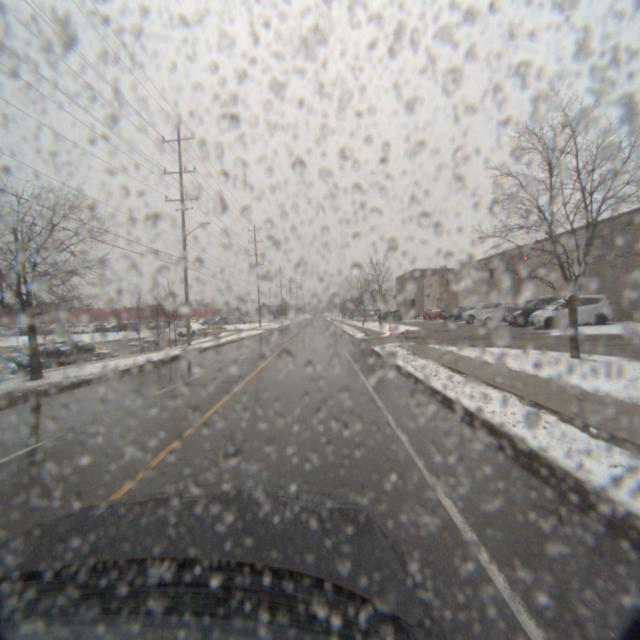Car: (519, 294, 614, 330), (498, 294, 580, 328), (469, 303, 527, 326), (454, 302, 504, 324), (435, 306, 478, 324), (416, 308, 440, 322)
Truck: (170, 324, 206, 342)
